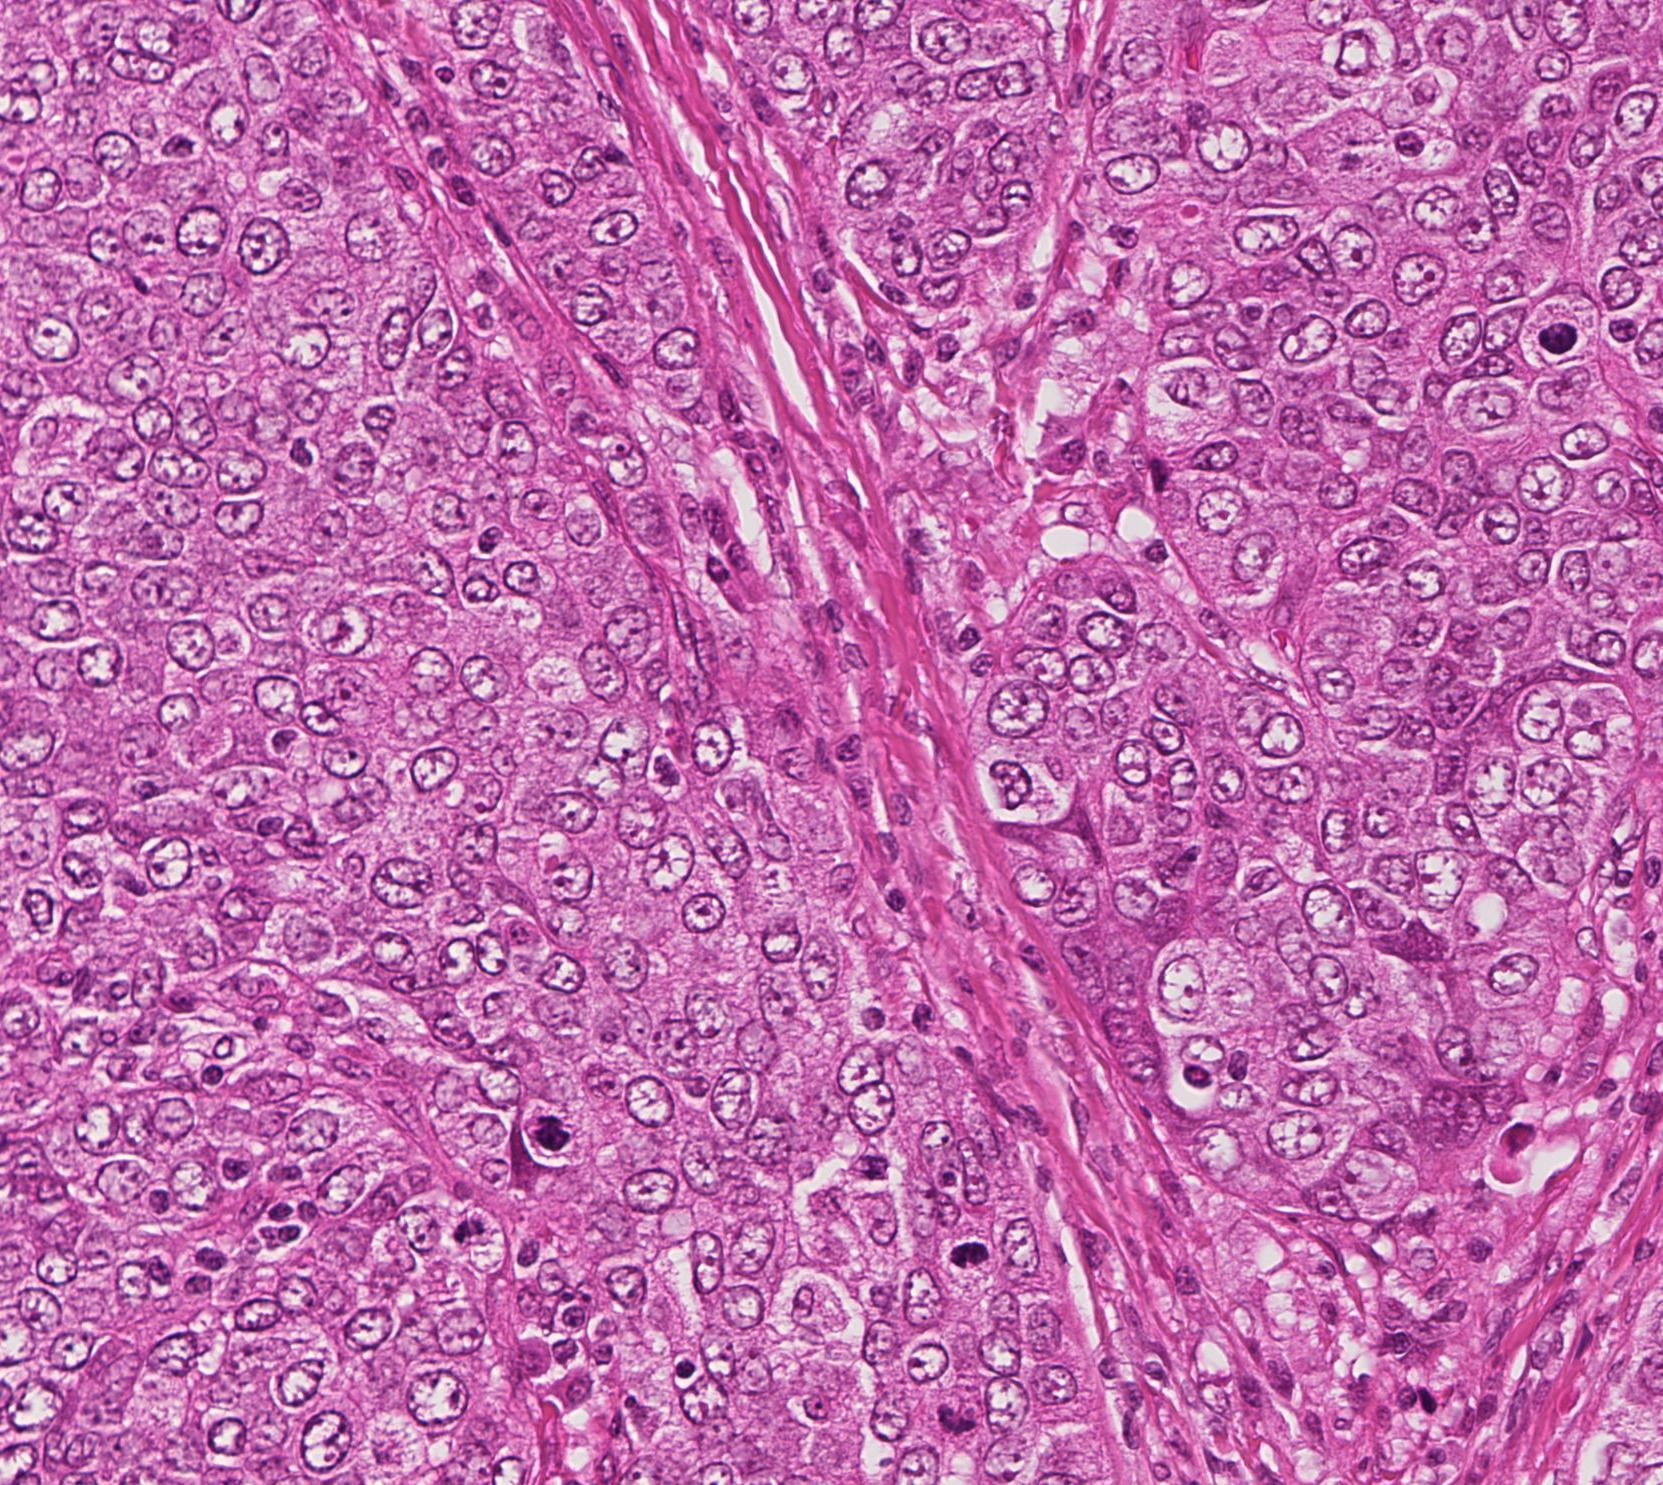mitosis: (1530, 305, 1590, 366), (519, 1095, 579, 1155), (933, 1228, 993, 1289), (928, 1393, 986, 1453)
